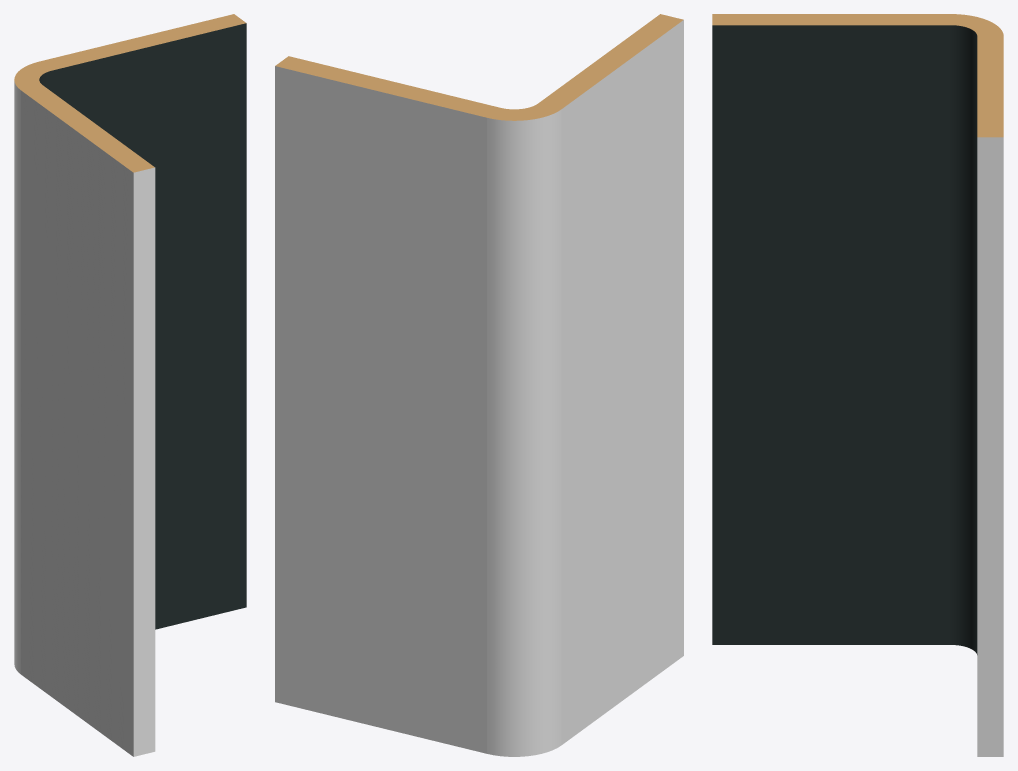
Rendered from wallCornerRond.fbx.
3 renders of one model, left to right at view 1: azimuth 30°, elevation 25°; view 2: azimuth 150°, elevation 25°; view 3: azimuth 270°, elevation 25°, orthographic. The views are drawn at different scales.
Visible parts, largest first — view 1: wallCornerRond; view 2: wallCornerRond; view 3: wallCornerRond.
Part boxes in pixels (bbox=[...]): wallCornerRond: bbox=[14, 14, 246, 756]; wallCornerRond: bbox=[275, 14, 683, 756]; wallCornerRond: bbox=[712, 14, 1003, 756].
Bounding box in the file's own units: 5.5 × 12.9 × 5.5.
